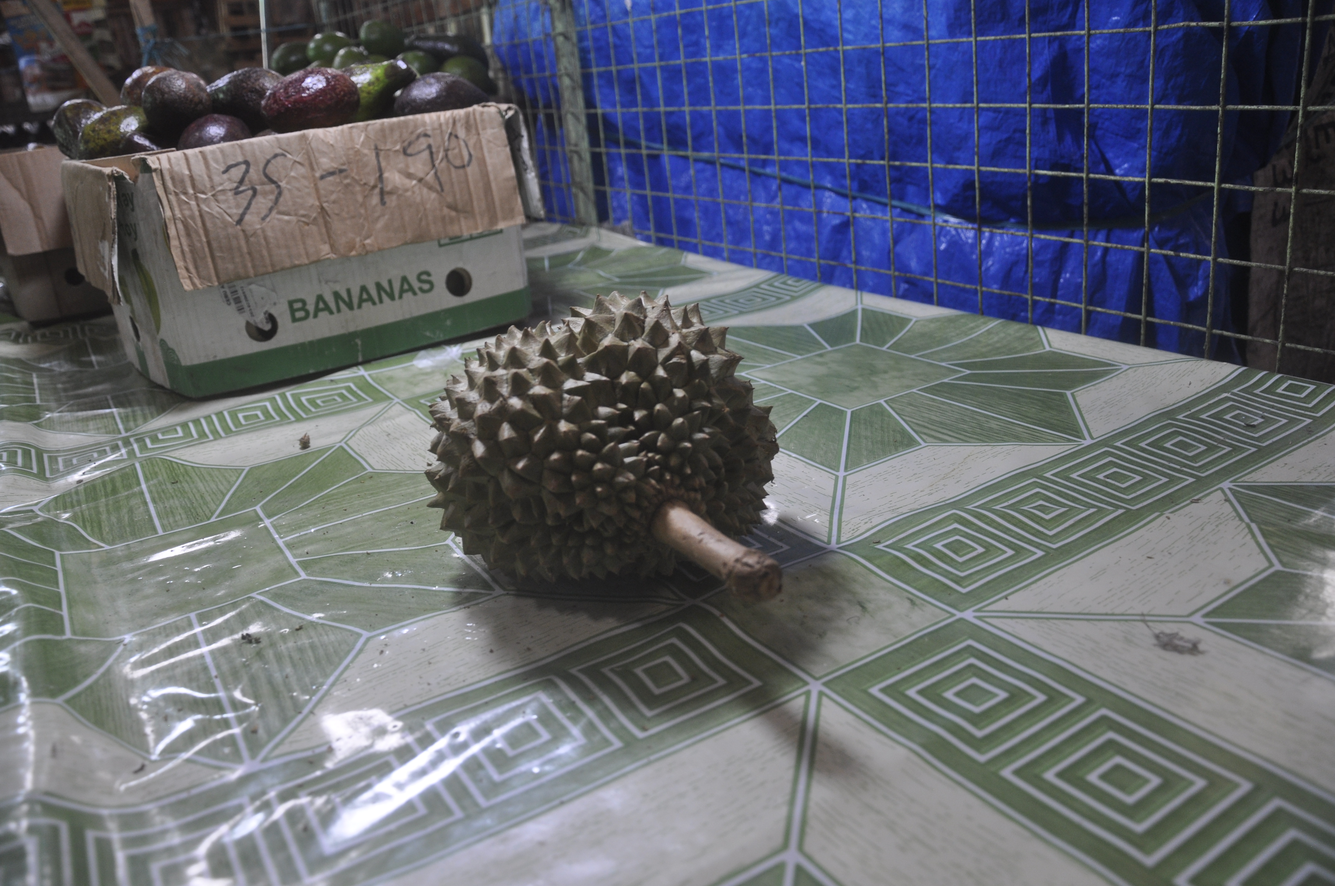mature: (426, 291, 782, 603)
